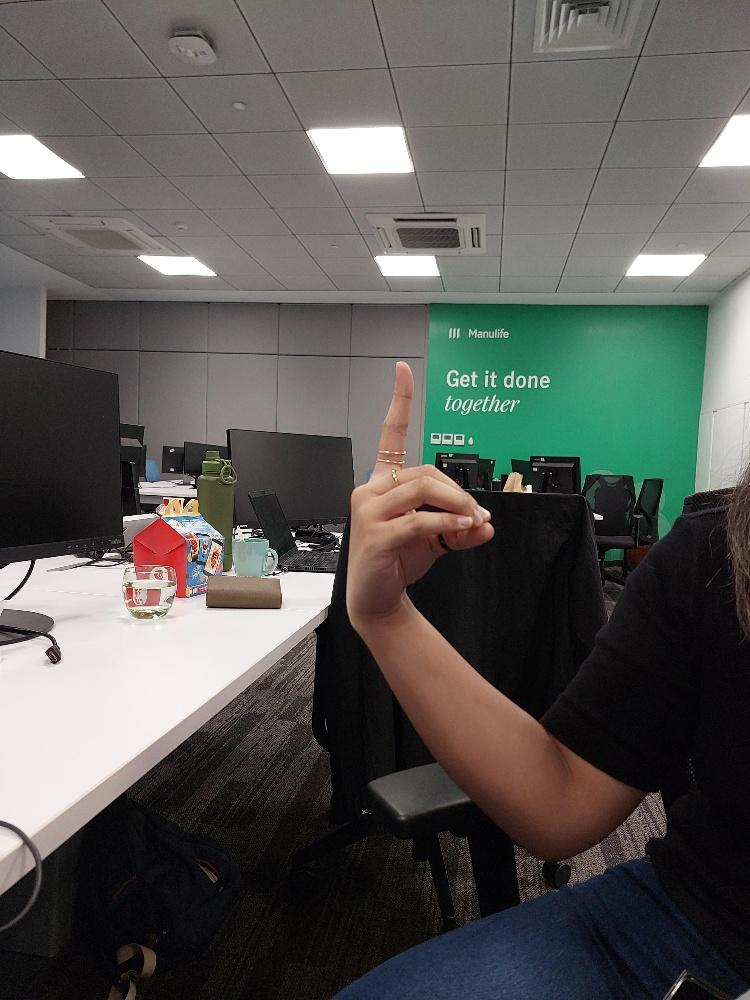d: (345, 358, 498, 621)
